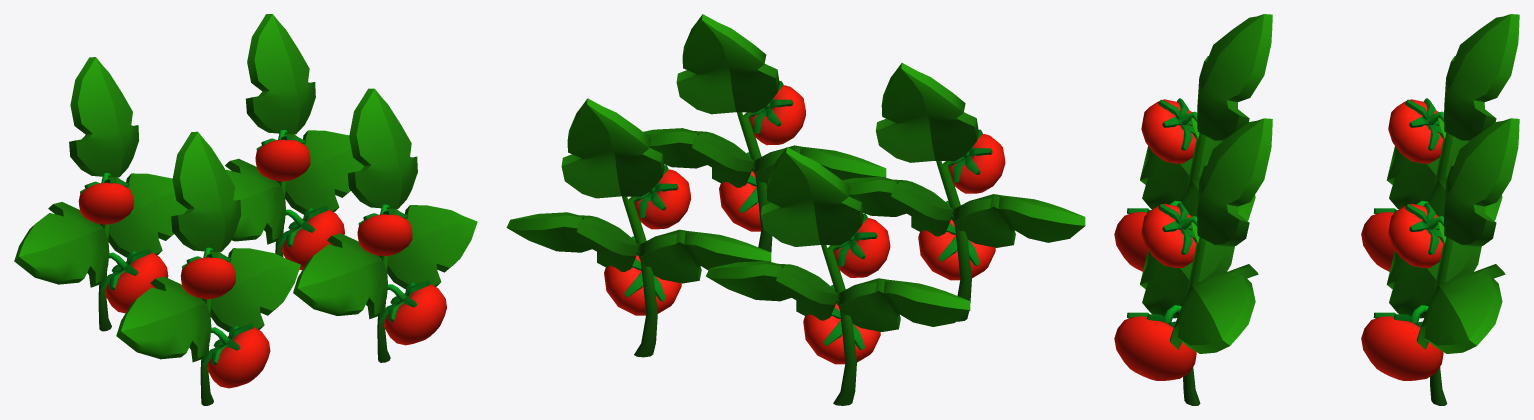
The model's file is Farm_Crop_Tomato_Step_03.fbx.
3 views of the same model, side by side, from view 1: azimuth 30°, elevation 25°; view 2: azimuth 150°, elevation 25°; view 3: azimuth 270°, elevation 25° (orthographic). The views are drawn at different scales.
Parts seen in each view (by area): view 1: Farm_Crop_Tomato_Step_03; view 2: Farm_Crop_Tomato_Step_03; view 3: Farm_Crop_Tomato_Step_03.
Boxes of the visible parts, x1,y1,x2,y2 form: Farm_Crop_Tomato_Step_03: (14, 14, 477, 405); Farm_Crop_Tomato_Step_03: (506, 14, 1085, 405); Farm_Crop_Tomato_Step_03: (1114, 14, 1519, 405).
Bounding box in the file's own units: 219 × 133 × 165.
